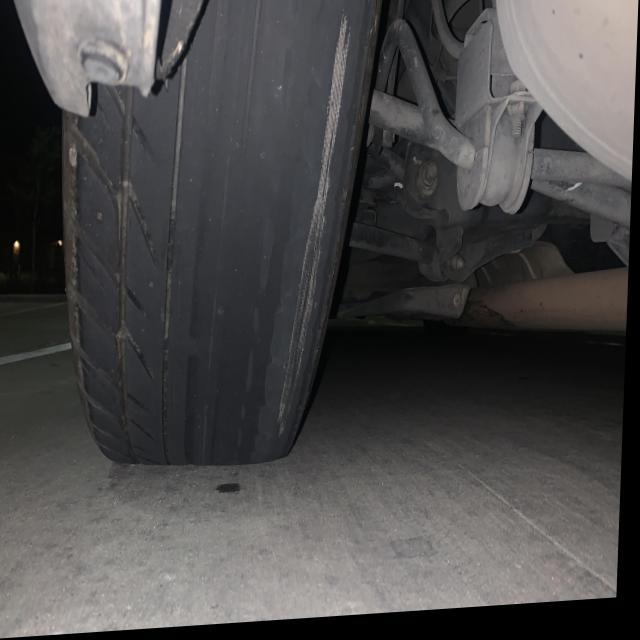Flat spots: (83, 110, 287, 437)
